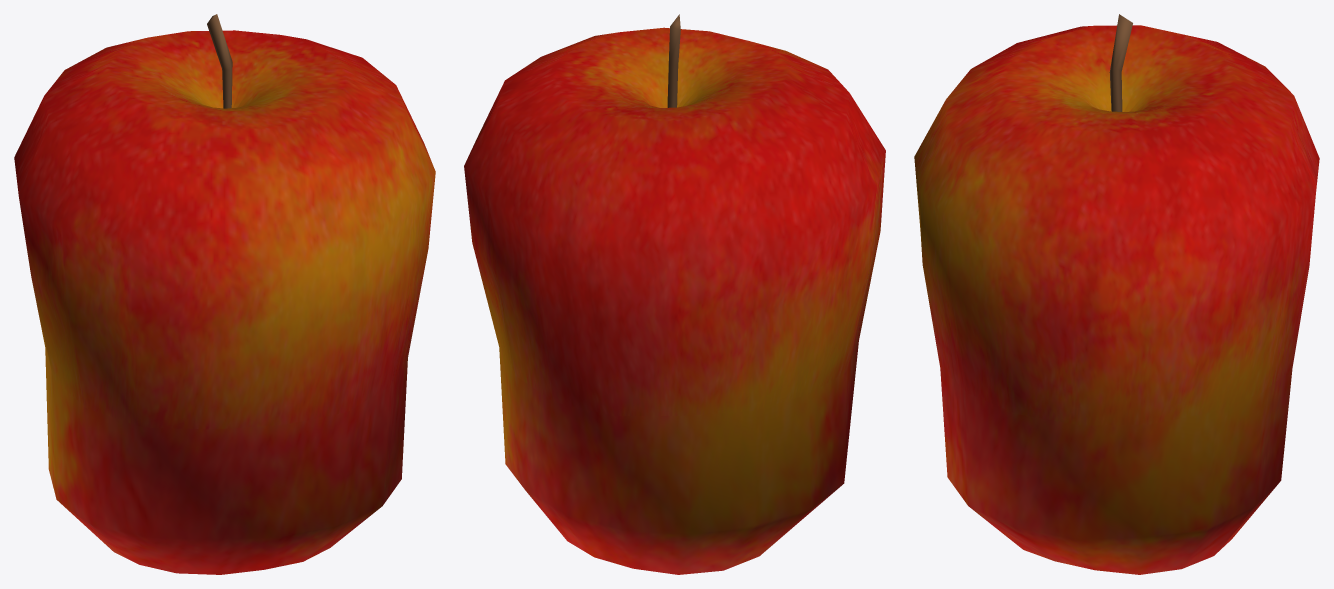
Rendered from Apple_13.obj.
3 views of the same model, side by side, from view 1: azimuth 30°, elevation 25°; view 2: azimuth 150°, elevation 25°; view 3: azimuth 270°, elevation 25° (orthographic). The views are drawn at different scales.
Visible parts, largest first — view 1: apple_a13; view 2: apple_a13; view 3: apple_a13.
Part boxes in pixels (box(x1,y1,x2,y2)): apple_a13: box(14, 14, 435, 574); apple_a13: box(464, 14, 885, 574); apple_a13: box(914, 14, 1319, 574).
Bounding box in the file's own units: 0.086 × 0.1181 × 0.0841.
